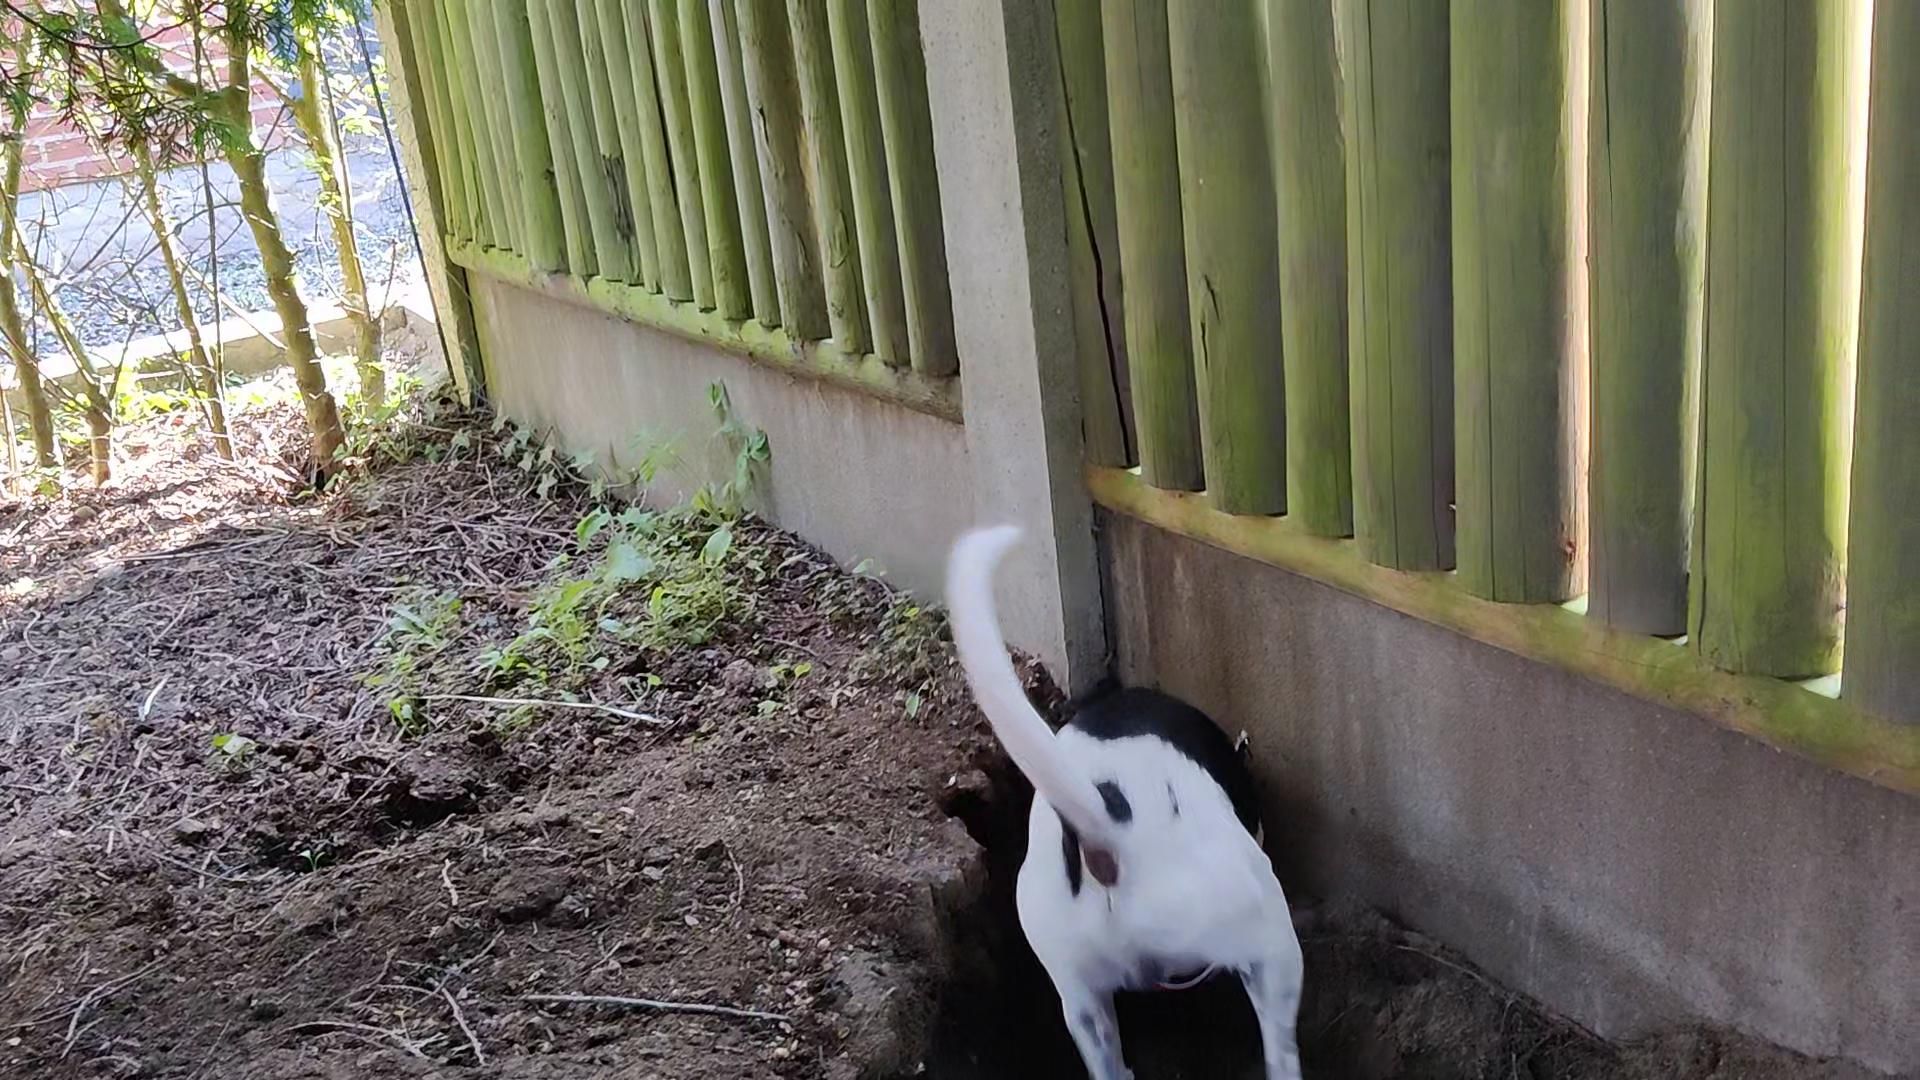Dog: (934, 506, 1331, 1079)
